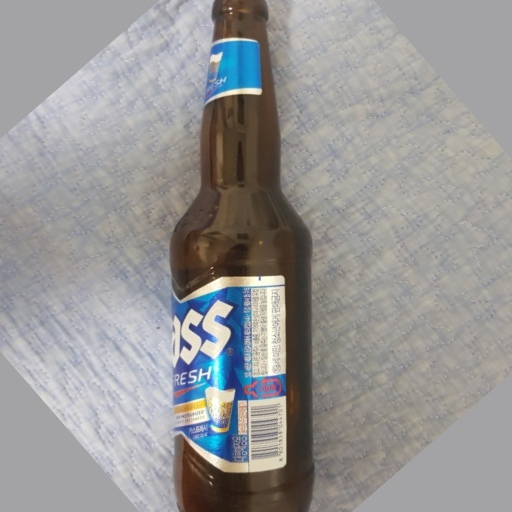Glass_1: (167, 1, 320, 512)
